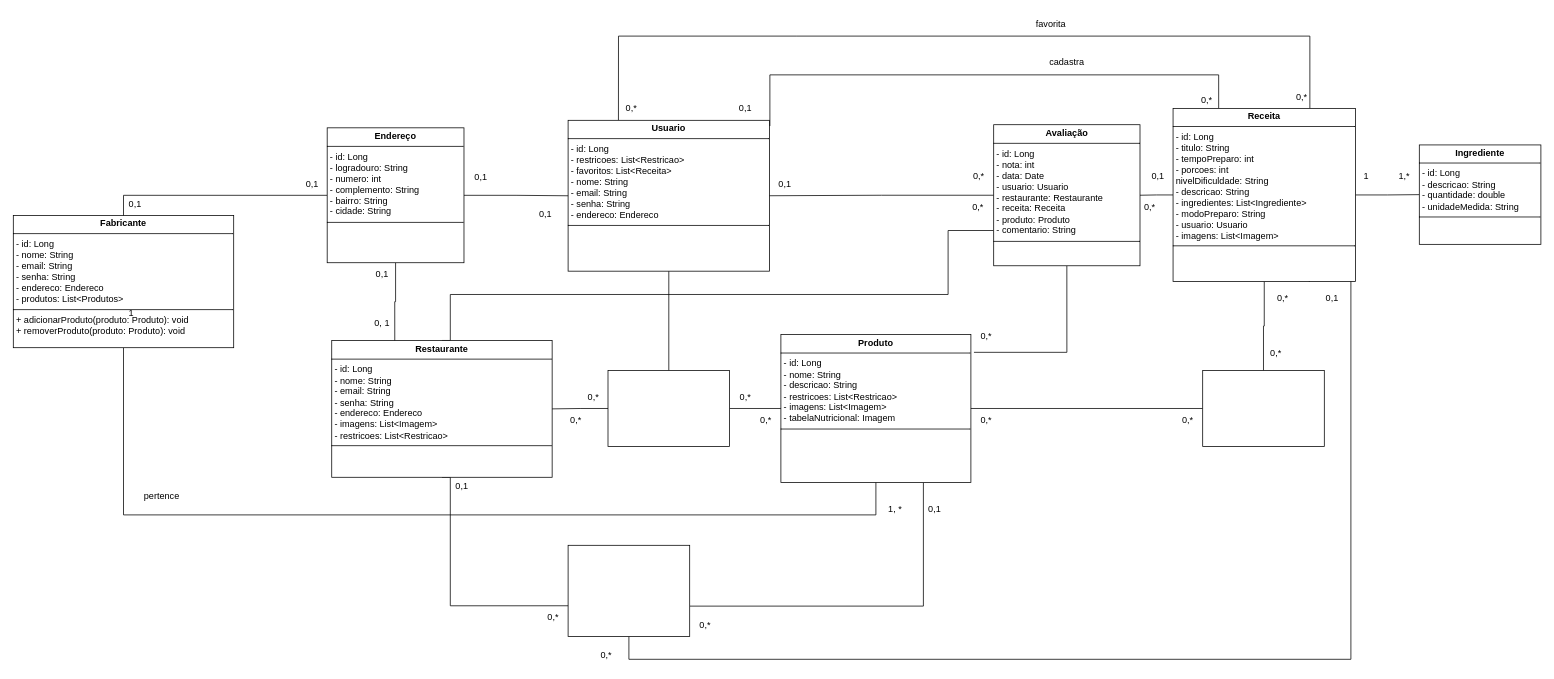
Some shapes in this 1554 by 679 pixel diagram are drawn without their labels. Each missing label, with the box of its shape:
Imagem - id: Long - path: String - capa: boolean: (567, 545, 690, 636)
Restrição - id: Long - descricao: String: (607, 370, 730, 446)
Tipo - id: Long - descricao: String: (1202, 370, 1324, 446)
